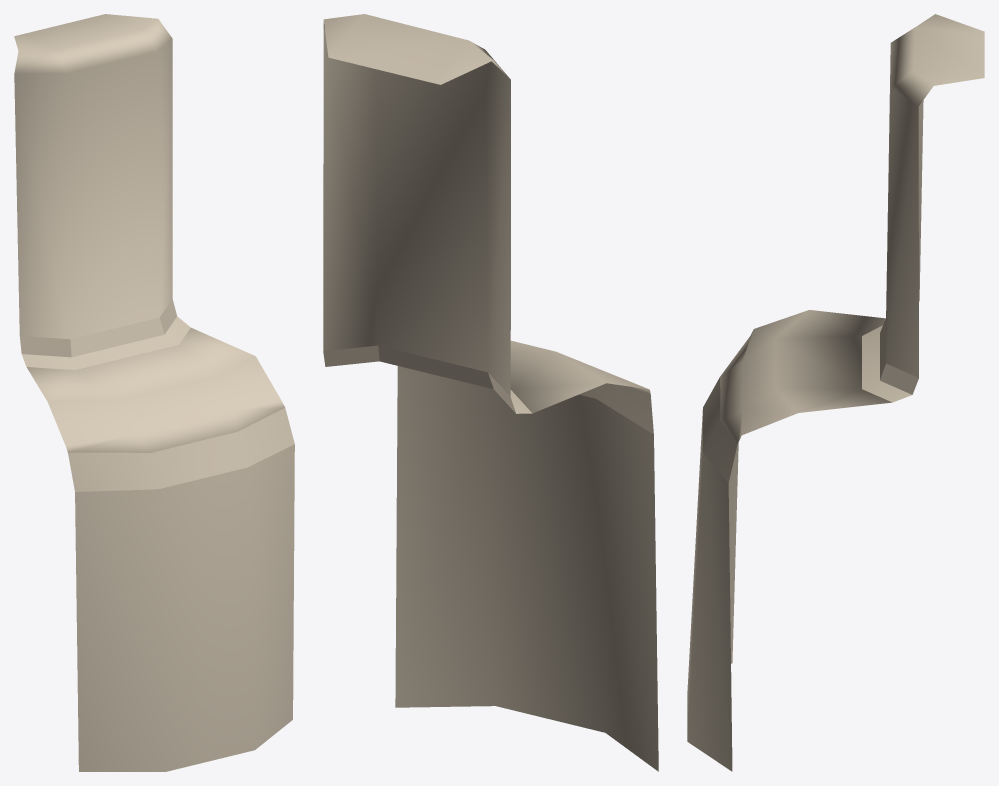
The model's file is Msh_Cascade_Fall_Env.fbx.
3 renders of one model, left to right at view 1: azimuth 30°, elevation 25°; view 2: azimuth 150°, elevation 25°; view 3: azimuth 270°, elevation 25°, orthographic. The views are drawn at different scales.
Visible parts, largest first — view 1: Msh_Cascade_Env; view 2: Msh_Cascade_Env; view 3: Msh_Cascade_Env.
Part boxes in pixels (x1,y1,x2,y2): Msh_Cascade_Env: [14, 14, 294, 771]; Msh_Cascade_Env: [323, 14, 658, 771]; Msh_Cascade_Env: [687, 14, 984, 771].
Bounding box in the file's own units: 58.27 × 66.37 × 165.
